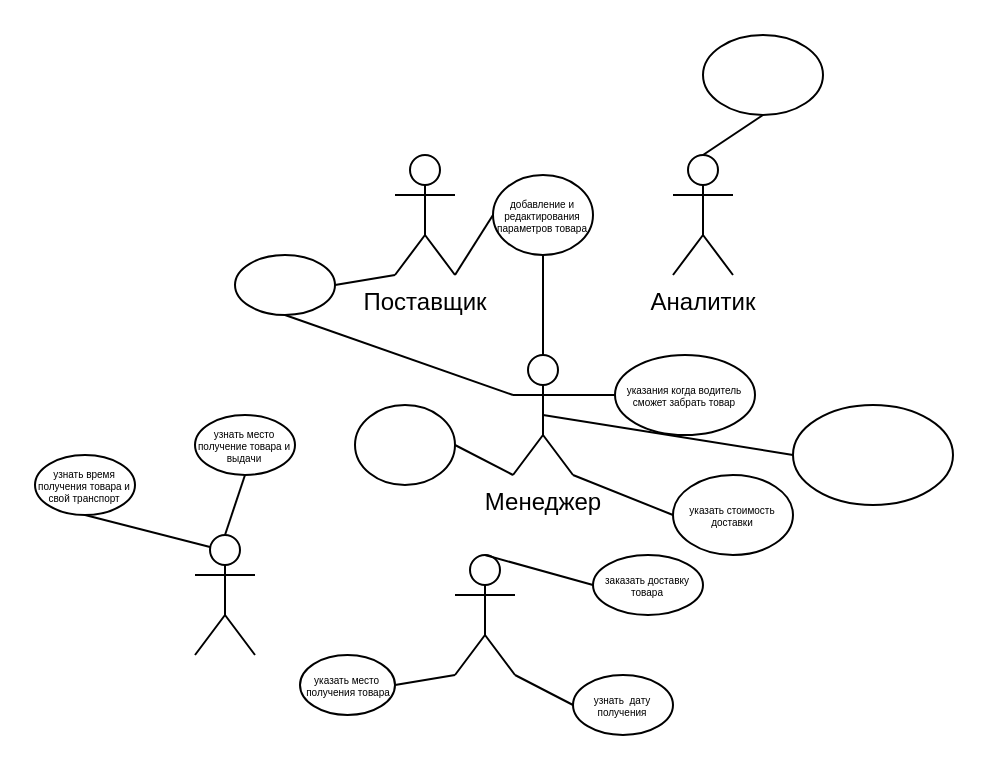
Image size: 988x770. Some labels were removed from this diagram. Here are the shapes that lost their labels. From the top down, the centre of each, then its label:
At [762,74]: "получение данных для анализа данных компании".
At [284,284]: "добавление и редактирование товара".
At [404,444]: "назначение автомобиля с учётом габаритов товара".
At [872,454]: "указать дату получения".
At [224,594]: "водитель".
At [484,614]: "Покупатель".
